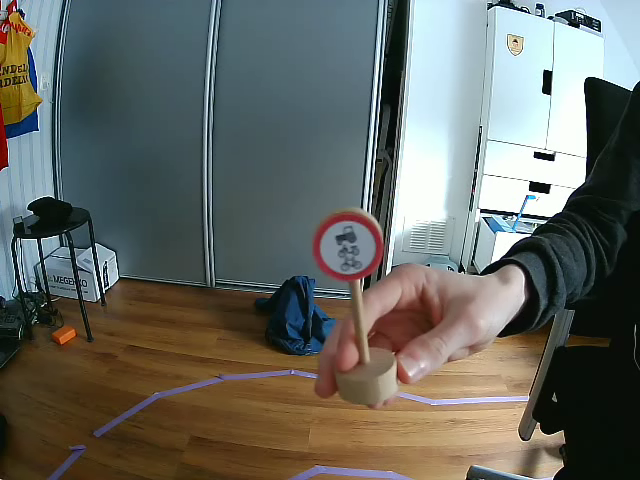fietspad: (315, 211, 386, 280)
